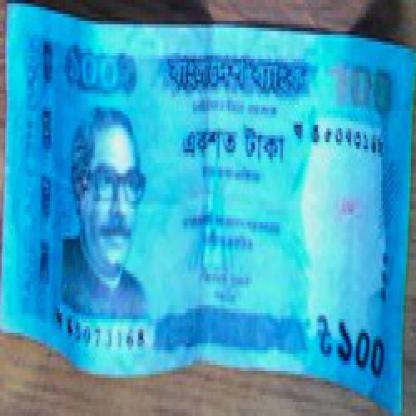one hundred taka: (326, 48, 401, 122), (332, 305, 390, 385), (63, 42, 123, 94)
